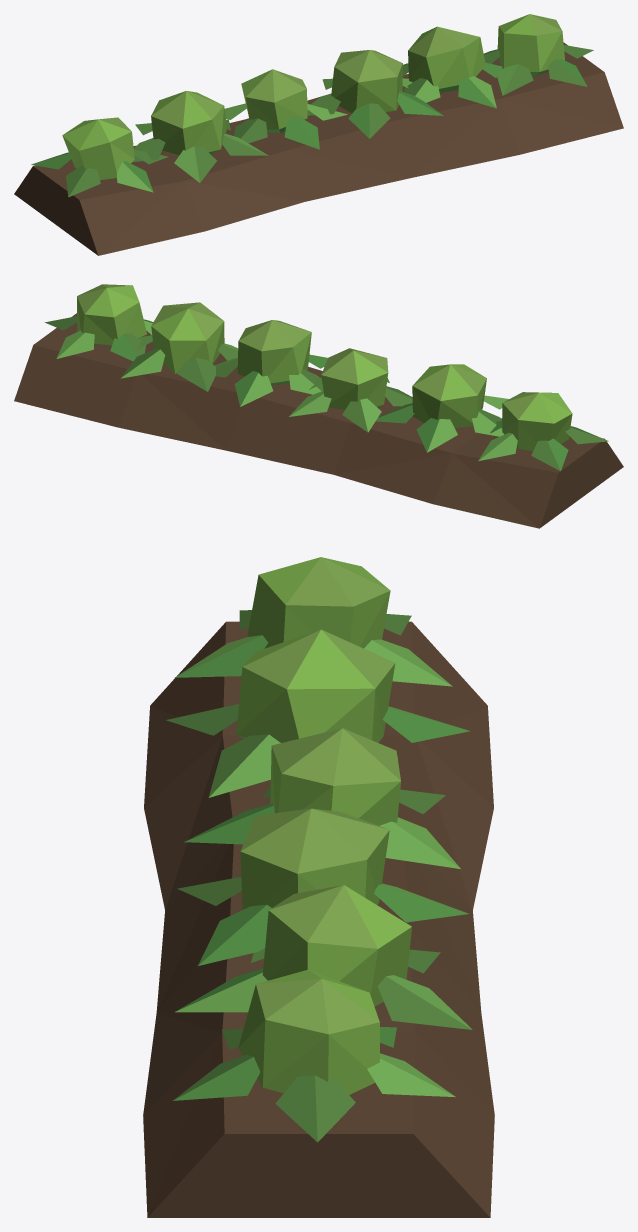
The model's file is cabbage_row.fbx.
3 views of the same model, one above another, from view 1: azimuth 30°, elevation 25°; view 2: azimuth 150°, elevation 25°; view 3: azimuth 270°, elevation 25° (orthographic). The views are drawn at different scales.
Parts seen in each view (by area): view 1: cabbage_row; view 2: cabbage_row; view 3: cabbage_row.
Boxes of the visible parts, x1,y1,x2,y2 form: cabbage_row: (14, 14, 623, 255); cabbage_row: (14, 284, 623, 528); cabbage_row: (143, 557, 494, 1217).
Bounding box in the file's own units: 3.12 × 0.5568 × 0.8705.
